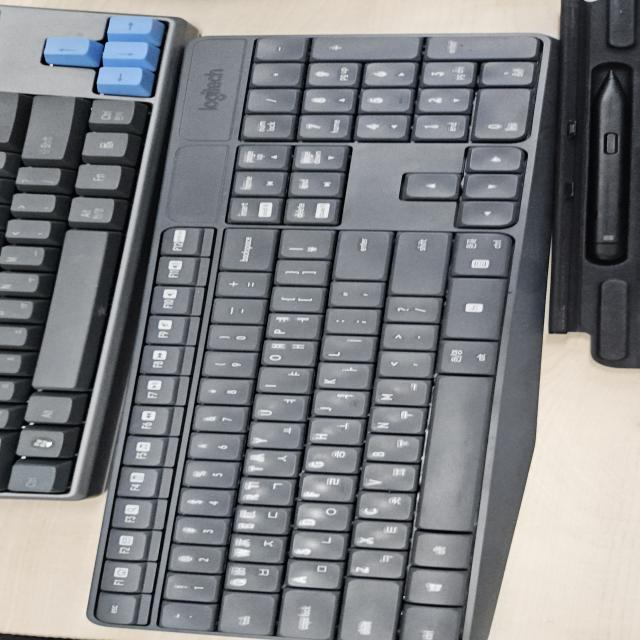Keyboard: (4, 3, 566, 638)
